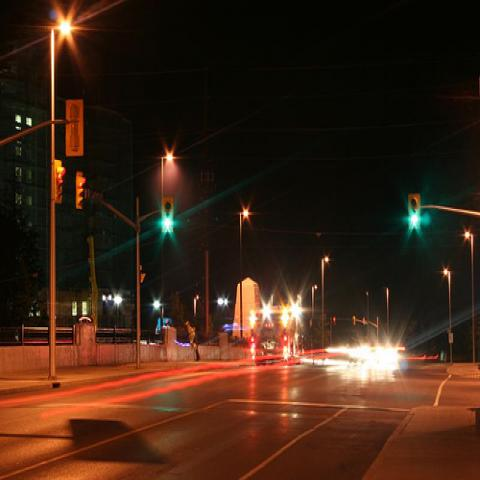bus: (252, 305, 304, 363)
car: (348, 344, 370, 363)
truck: (250, 300, 304, 366)
